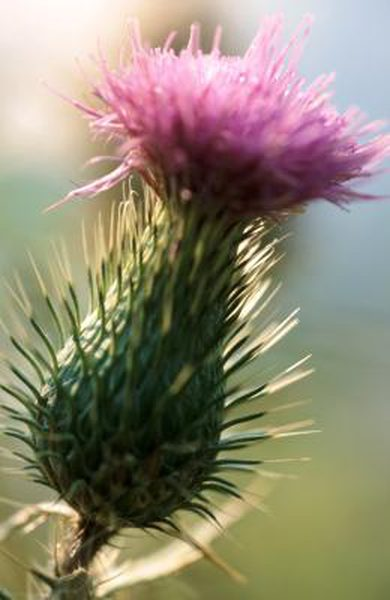thistle: (11, 16, 390, 537)
